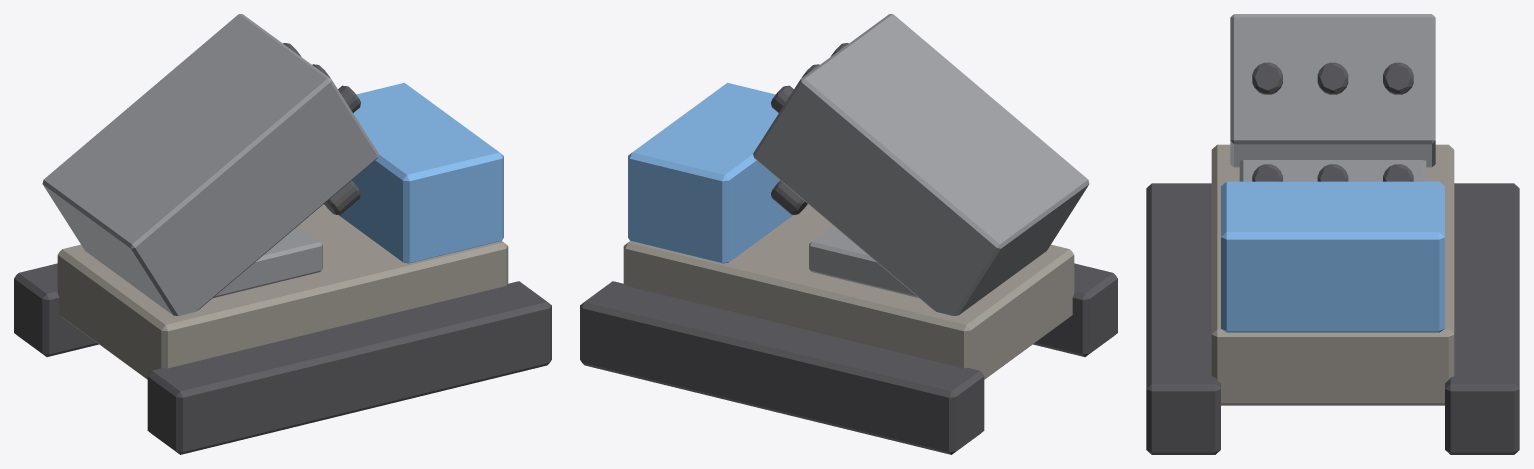
The model's file is typhoon.glb.
3 renders of one model, left to right at view 1: azimuth 30°, elevation 25°; view 2: azimuth 150°, elevation 25°; view 3: azimuth 270°, elevation 25°, orthographic. The views are drawn at different scales.
Parts seen in each view (by area): view 1: Hull, Turret; view 2: Hull, Turret; view 3: Hull, Turret.
Part boxes in pixels (left/top/right/bottom): Hull: left=14, top=82, right=551, bottom=454; Turret: left=42, top=14, right=378, bottom=315; Hull: left=580, top=82, right=1117, bottom=454; Turret: left=753, top=14, right=1089, bottom=315; Hull: left=1146, top=144, right=1519, bottom=454; Turret: left=1230, top=14, right=1435, bottom=181.
Bounding box in the file's own units: 2.66 × 2.01 × 2.
